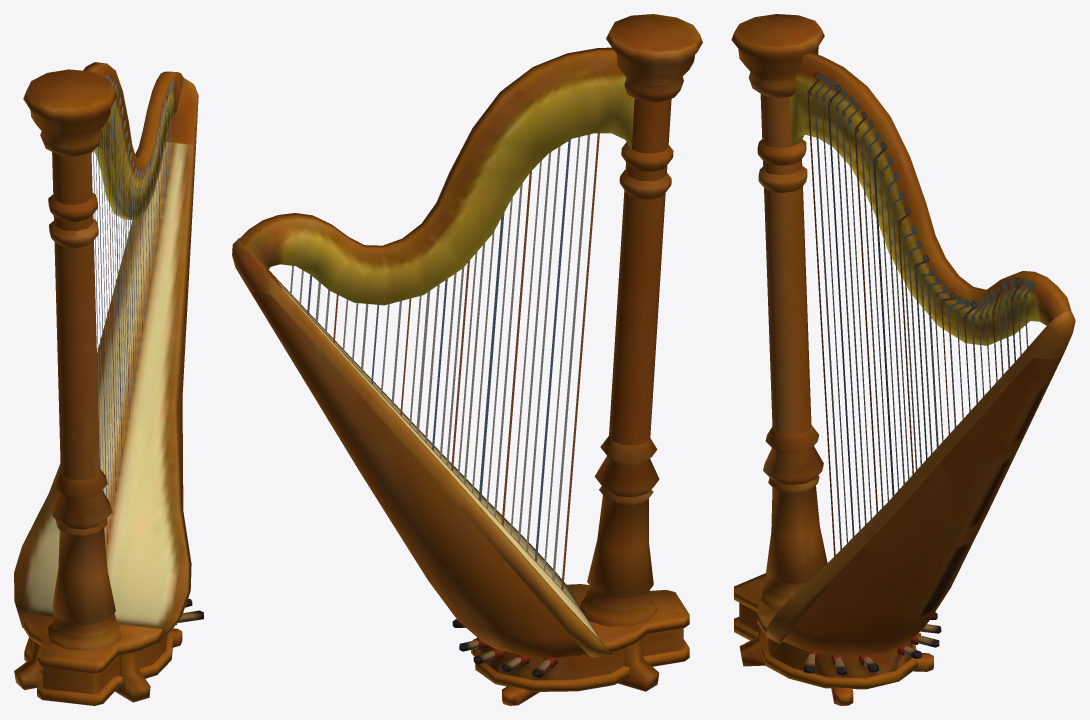
3 views of the same model, side by side, from view 1: azimuth 30°, elevation 25°; view 2: azimuth 150°, elevation 25°; view 3: azimuth 270°, elevation 25° (orthographic). The views are drawn at different scales.
Size of the model in its own units: 9.62 by 18.3 by 9.39.
Materials: 2 (2 with a texture image).
